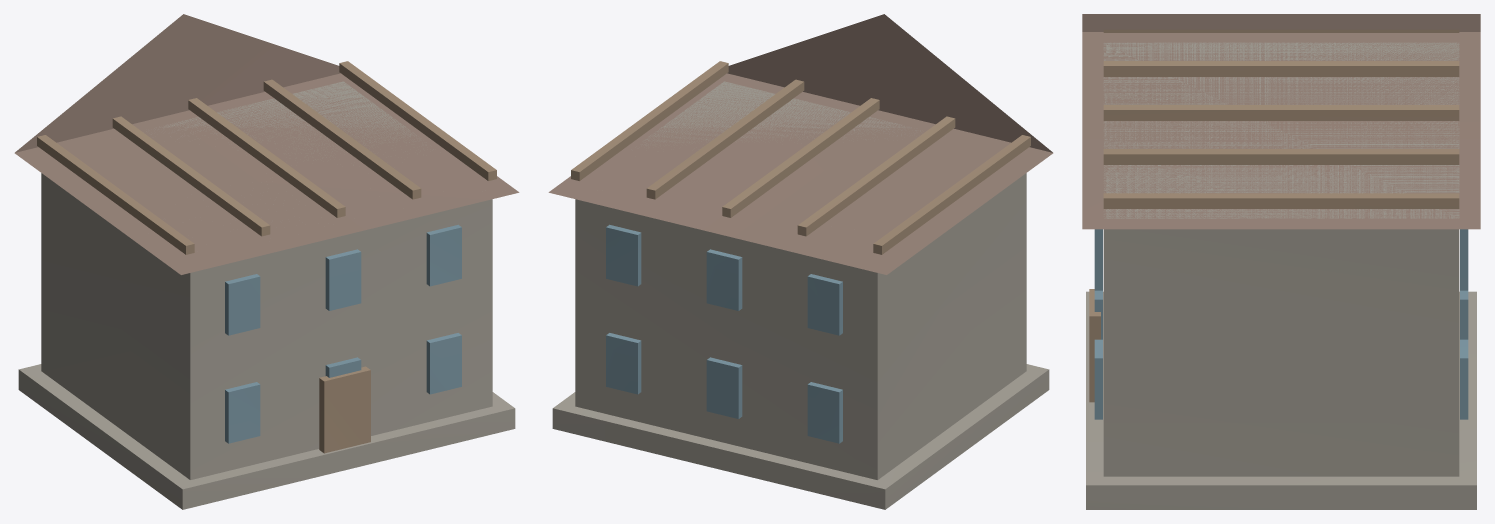
File: greenhouse-05.glb
3 renders of one model, left to right at view 1: azimuth 30°, elevation 25°; view 2: azimuth 150°, elevation 25°; view 3: azimuth 270°, elevation 25°, orthographic. The views are drawn at different scales.
Visible parts, largest first — view 1: world; view 2: world; view 3: world.
Part boxes in pixels (left/top/right/bottom): world: left=14, top=14, right=519, bottom=509; world: left=548, top=14, right=1053, bottom=509; world: left=1082, top=14, right=1480, bottom=509.
Size of the model in its own units: 1.38 by 1.3 by 1.18.
